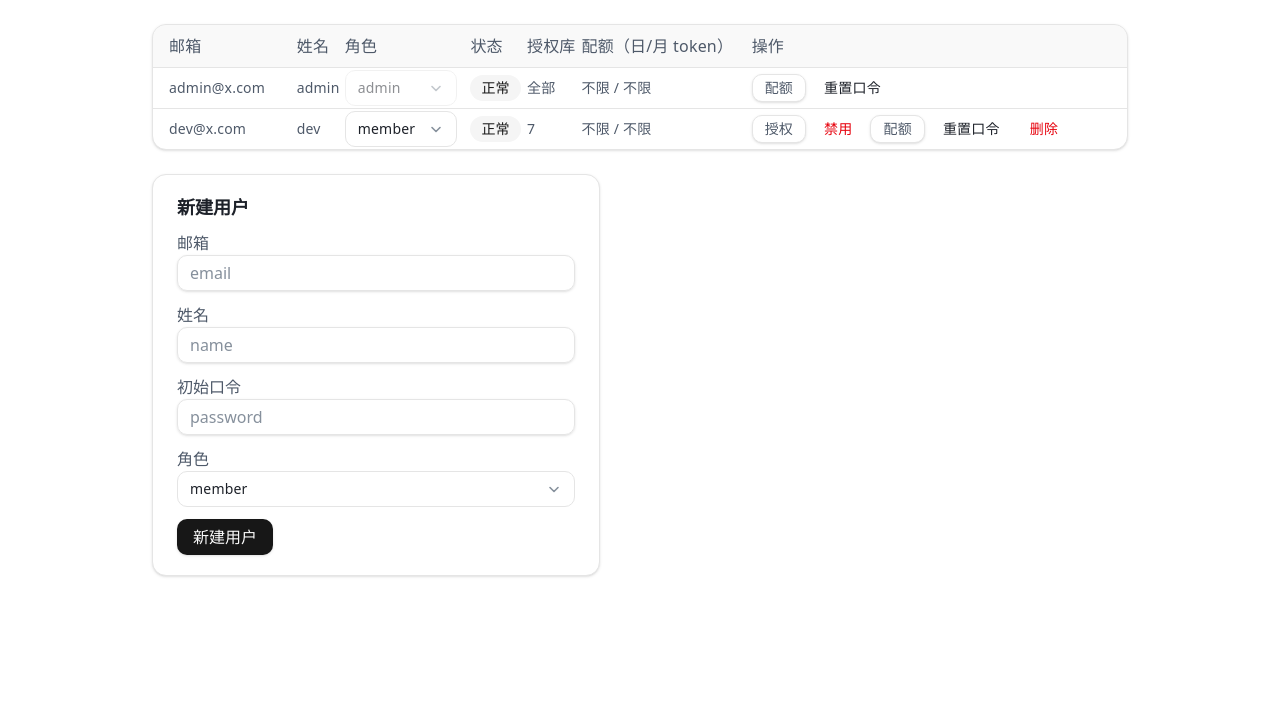
it: 收编⑯：库列表加载中授权保存禁用
Click the button "授权". click: (779, 129)
box: [752,115,806,143]
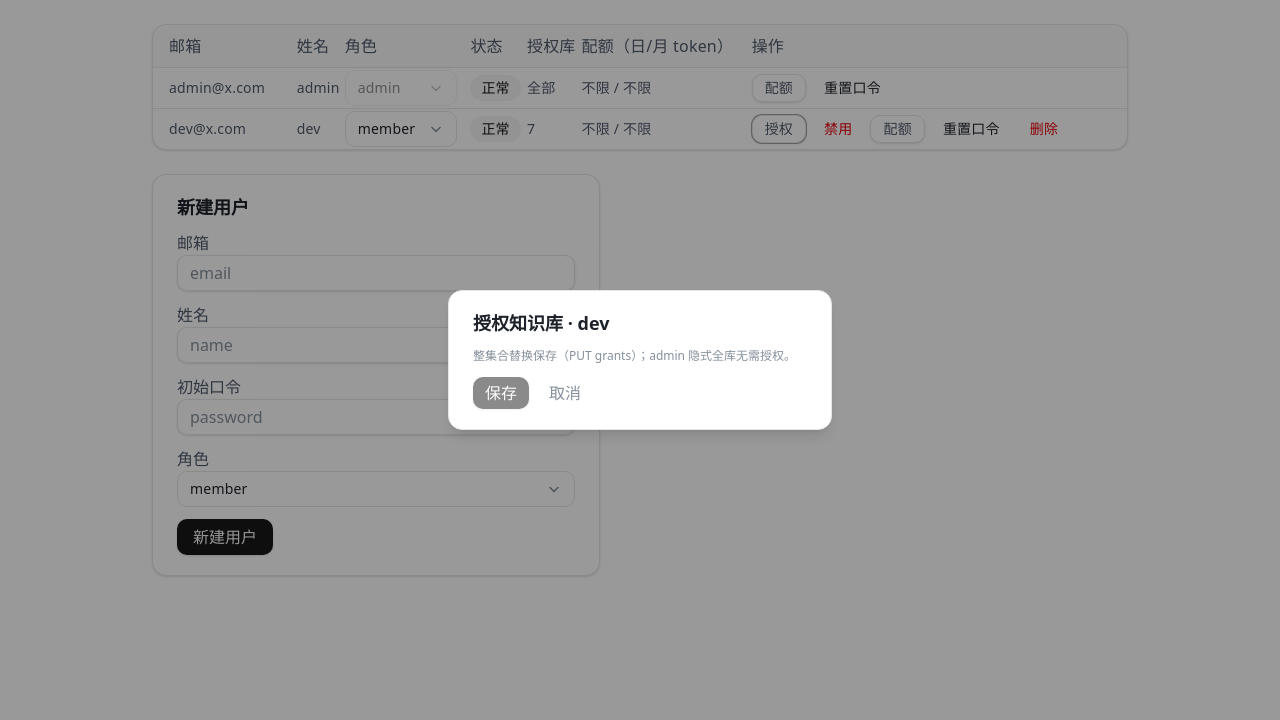
Expected: the button "保存" is disabled, [473,377,529,409]
